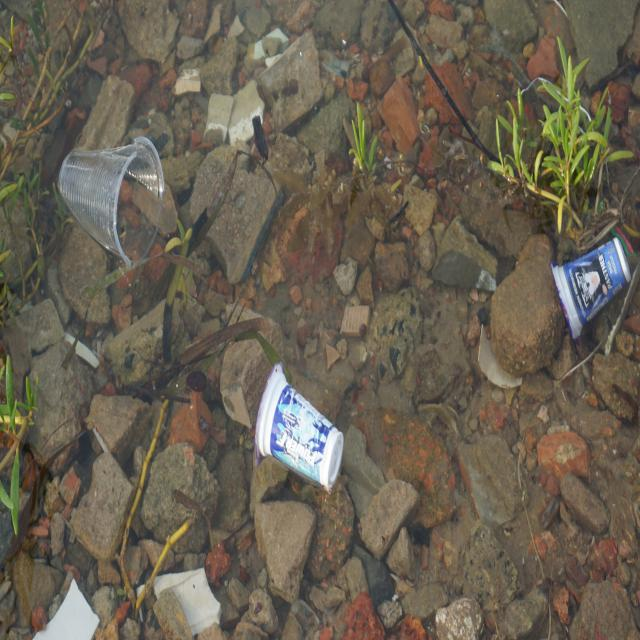Bungkus Minuman: (53, 131, 172, 272), (250, 351, 350, 493), (552, 236, 635, 341)
